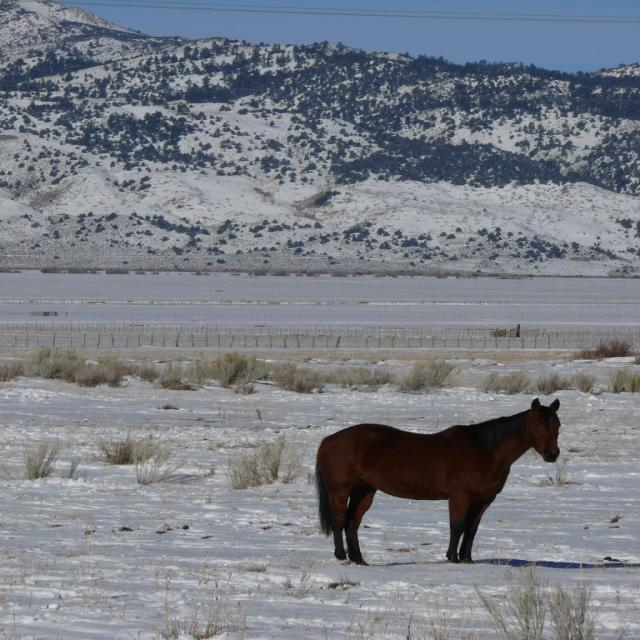Horse: (313, 397, 567, 564)
